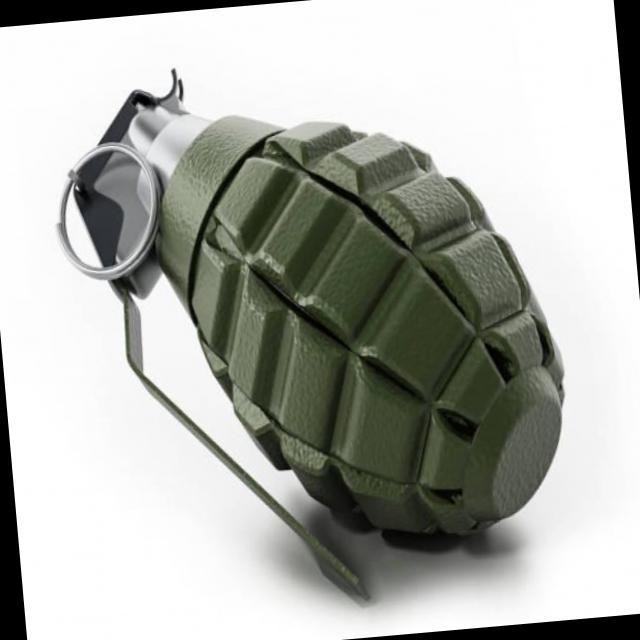grenade: (43, 23, 591, 628)
